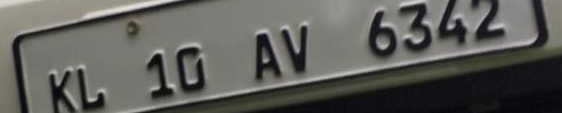0: (173, 44, 210, 92)
1: (142, 47, 178, 99)
2: (469, 1, 509, 41)
3: (397, 1, 433, 54)
4: (435, 1, 470, 45)
6: (366, 7, 400, 59)
A: (249, 27, 284, 81)
K: (42, 64, 78, 112)
L: (75, 64, 110, 109)
V: (279, 20, 316, 74)
